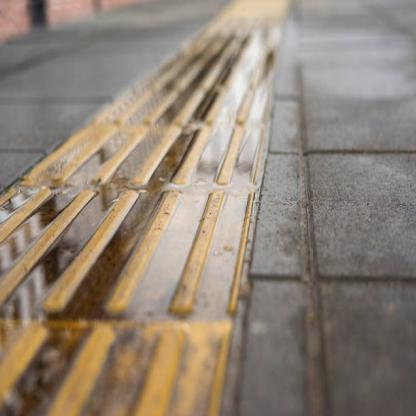podotacti: (1, 36, 283, 408)
